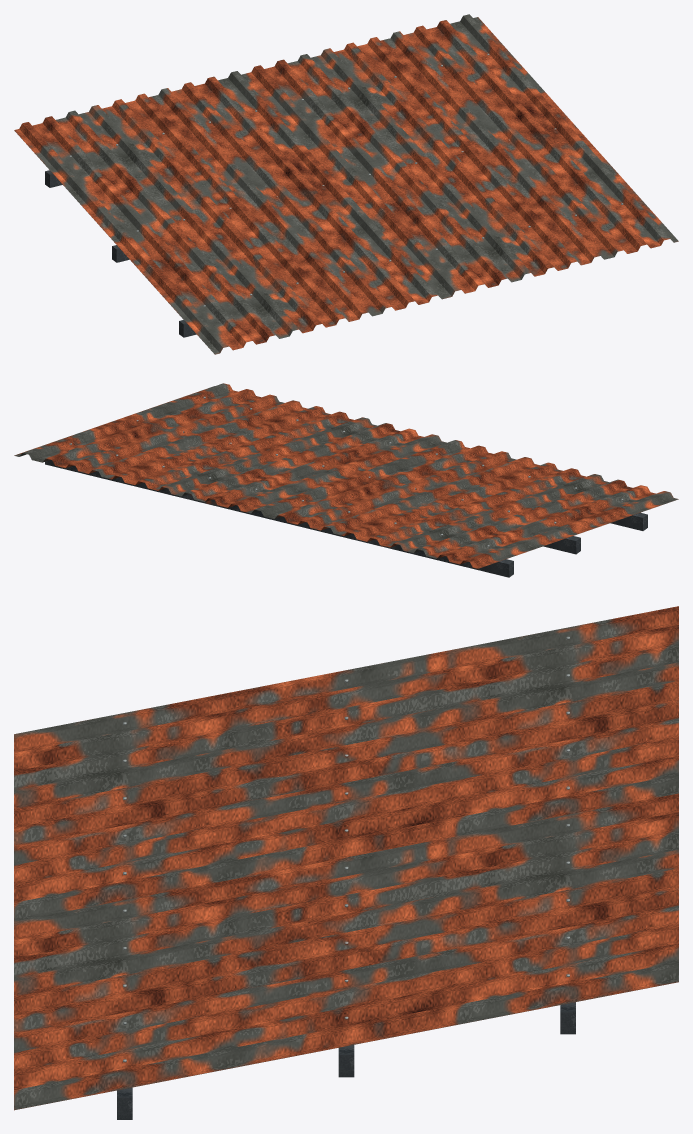
The model's file is ROOF_SHEET_4000x3000_RUST_HEAVY.glb.
3 views of the same model, one above another, from view 1: azimuth 30°, elevation 25°; view 2: azimuth 150°, elevation 25°; view 3: azimuth 270°, elevation 25° (orthographic). The views are drawn at different scales.
Parts seen in each view (by area): view 1: ROOF_SHEET_4000x3000_RUST_HEAVY__Roof_Cladding_Corrugated, ROOF_SHEET_4000x3000_RUST_HEAVY__Roof_Purlins_3; view 2: ROOF_SHEET_4000x3000_RUST_HEAVY__Roof_Cladding_Corrugated, ROOF_SHEET_4000x3000_RUST_HEAVY__Roof_Purlins_3; view 3: ROOF_SHEET_4000x3000_RUST_HEAVY__Roof_Cladding_Corrugated, ROOF_SHEET_4000x3000_RUST_HEAVY__Roof_Purlins_3.
Boxes of the visible parts, bbox=[...] form: ROOF_SHEET_4000x3000_RUST_HEAVY__Roof_Cladding_Corrugated: bbox=[14, 14, 678, 354]; ROOF_SHEET_4000x3000_RUST_HEAVY__Roof_Purlins_3: bbox=[45, 170, 196, 337]; ROOF_SHEET_4000x3000_RUST_HEAVY__Roof_Cladding_Corrugated: bbox=[14, 383, 678, 568]; ROOF_SHEET_4000x3000_RUST_HEAVY__Roof_Purlins_3: bbox=[45, 460, 647, 577]; ROOF_SHEET_4000x3000_RUST_HEAVY__Roof_Cladding_Corrugated: bbox=[14, 606, 678, 1110]; ROOF_SHEET_4000x3000_RUST_HEAVY__Roof_Purlins_3: bbox=[117, 1002, 575, 1119].
Size of the model in its own units: 4 by 0.7254 by 3.
3 materials, 3 textured.
